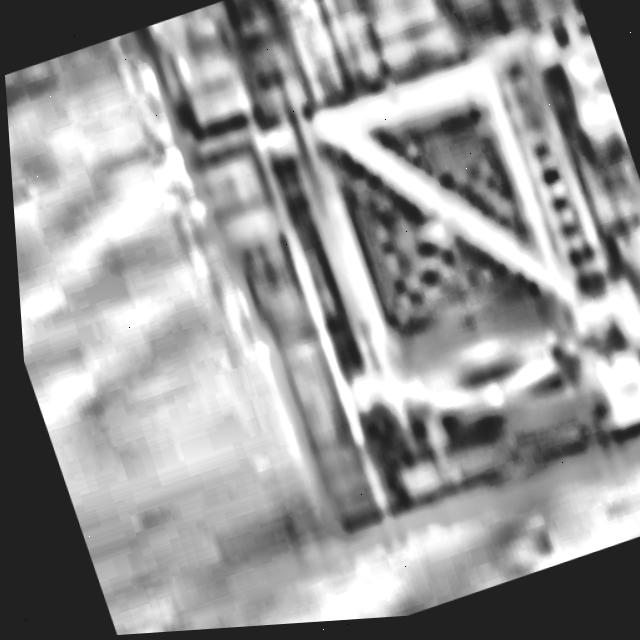dump_truck: (133, 0, 640, 633)
